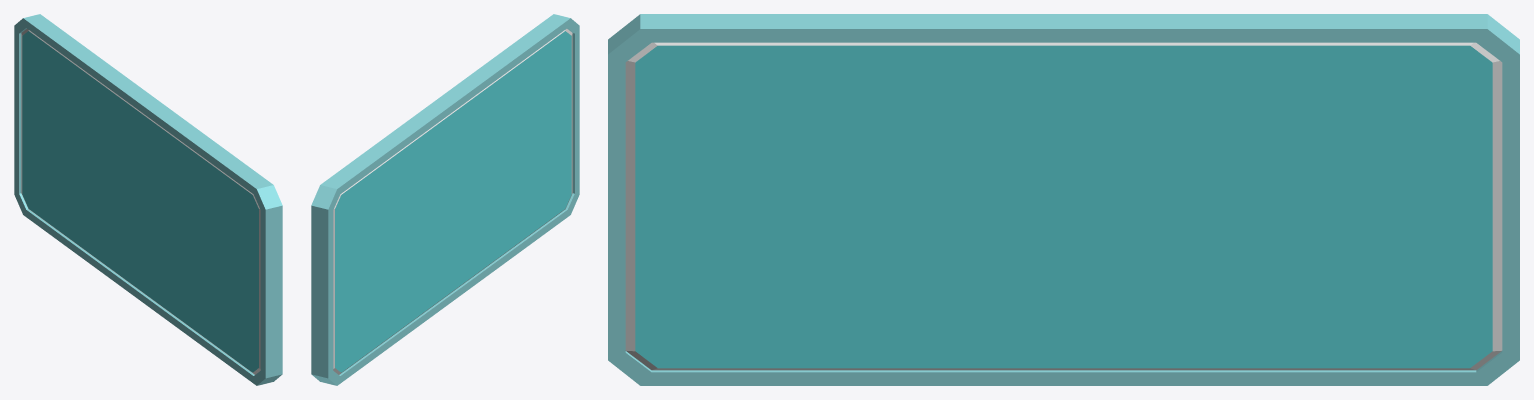
The model's file is Wall Obstacle.fbx.
3 renders of one model, left to right at view 1: azimuth 30°, elevation 25°; view 2: azimuth 150°, elevation 25°; view 3: azimuth 270°, elevation 25°, orthographic. The views are drawn at different scales.
Parts seen in each view (by area): view 1: Cube; view 2: Cube; view 3: Cube.
Part boxes in pixels (x1=…): Cube: x1=14, y1=14, x2=282, y2=385; Cube: x1=311, y1=14, x2=579, y2=385; Cube: x1=608, y1=14, x2=1519, y2=385.
Bounding box in the file's own units: 47.08 × 519 × 1201.
